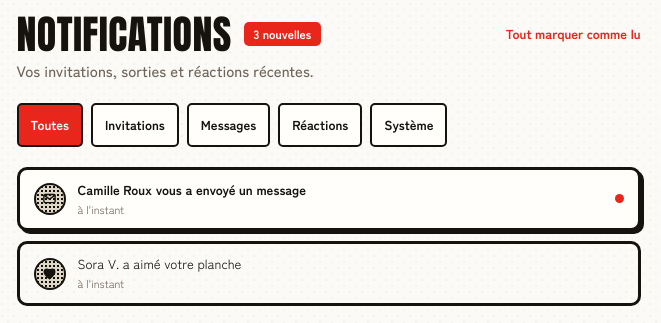
Test: NotificationsInbox › filters by type when a chip is clicked (client-side, no refetch)
Expected: the text "Camille Roux vous a envoyé un message" is shown, [78,180,306,198]
Click the button "Messages" at (228, 124), box [187,102,270,146]
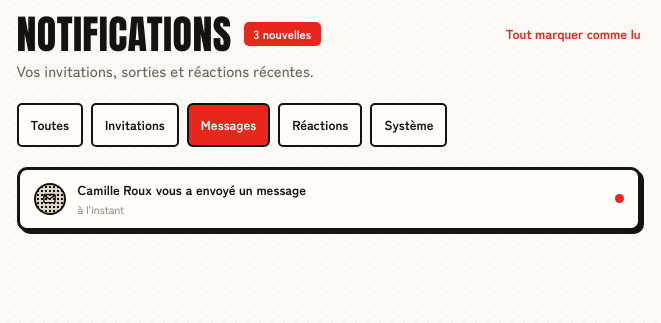
Expected: the text "Camille Roux vous a envoyé un message" is shown, [78,180,306,198]
Result: the button "Sora V. a aimé votre planche" is gone
